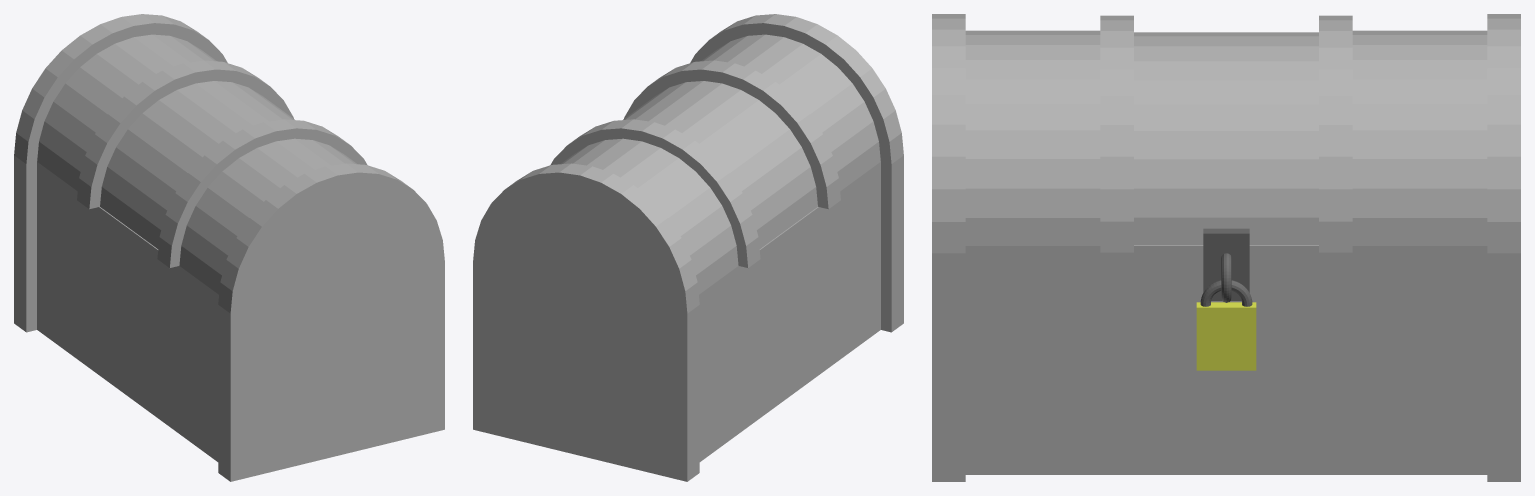
File: chest.glb
3 views of the same model, side by side, from view 1: azimuth 30°, elevation 25°; view 2: azimuth 150°, elevation 25°; view 3: azimuth 270°, elevation 25° (orthographic). The views are drawn at different scales.
Parts seen in each view (by area): view 1: Box, Lid; view 2: Box, Lid; view 3: Lid, Box, Padlock, Connector, PadlockTop.
Boxes of the visible parts, bbox=[...] form: Box: bbox=[14, 155, 444, 481]; Lid: bbox=[14, 14, 444, 313]; Box: bbox=[473, 155, 903, 481]; Lid: bbox=[473, 14, 903, 313]; Lid: bbox=[932, 14, 1520, 253]; Box: bbox=[932, 245, 1520, 481]; Padlock: bbox=[1196, 302, 1256, 370]; Connector: bbox=[1203, 228, 1249, 300]; PadlockTop: bbox=[1200, 280, 1252, 306].
Size of the model in its own units: 2.13 by 2.5 by 3.5.
